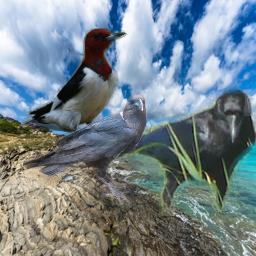Crow: (96, 89, 256, 216), (23, 94, 147, 205)
Woodpecker: (22, 28, 128, 142)
